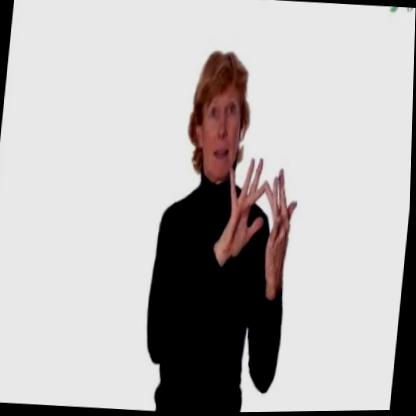Internet: (141, 43, 309, 414)
